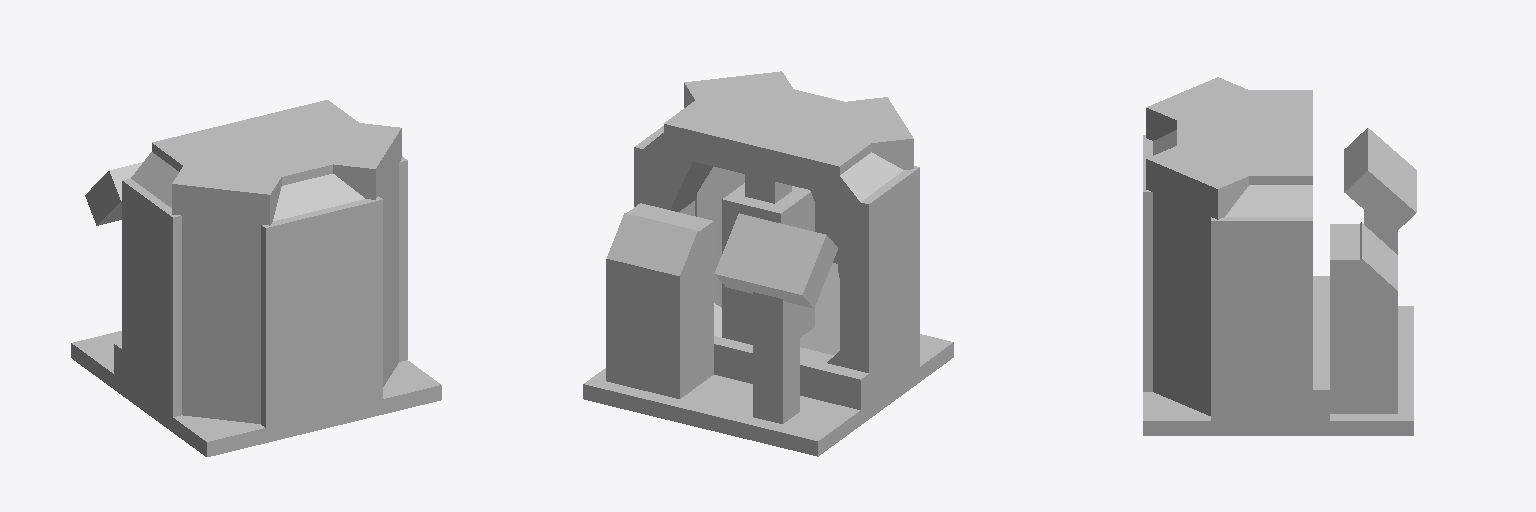
The model's file is chem.boiler.obj.
The picture shows the model from 3 angles: view 1: azimuth 30°, elevation 25°; view 2: azimuth 150°, elevation 25°; view 3: azimuth 270°, elevation 25°; orthographic projection.
Parts seen in each view (by area): view 1: b, k, e, a, i, l, n, h, v, c, f; view 2: e, i, w, a, v, u, srot, x, t, l, k, j (+8 smaller); view 3: h, l, i, w, a, v, x, t, m, k, b, y (+2 smaller).
Boxes of the visible parts, x1,y1,x2,y2 form: b: [261, 196, 382, 427]; k: [172, 163, 282, 423]; e: [122, 178, 181, 416]; a: [71, 331, 441, 456]; i: [152, 100, 366, 179]; l: [328, 122, 401, 386]; n: [273, 174, 364, 220]; h: [399, 156, 407, 361]; v: [85, 162, 142, 225]; c: [238, 146, 364, 185]; f: [131, 152, 178, 207]; e: [840, 166, 919, 403]; i: [664, 86, 888, 194]; w: [606, 252, 713, 398]; a: [583, 334, 953, 456]; v: [714, 213, 837, 308]; u: [753, 292, 799, 423]; srot: [722, 183, 814, 344]; x: [607, 213, 709, 287]; t: [714, 336, 868, 409]; l: [684, 71, 794, 307]; k: [838, 97, 913, 277]; j: [636, 150, 712, 211]; h: [1211, 217, 1312, 420]; l: [1146, 144, 1251, 415]; i: [1211, 90, 1312, 184]; w: [1330, 291, 1397, 413]; a: [1143, 306, 1413, 435]; v: [1344, 128, 1416, 234]; x: [1338, 222, 1397, 311]; t: [1313, 276, 1329, 420]; m: [1225, 185, 1312, 216]; k: [1146, 77, 1247, 140]; b: [1143, 135, 1152, 391]; y: [1330, 224, 1363, 290].
Size of the model in its own units: 1 by 1 by 1.01.